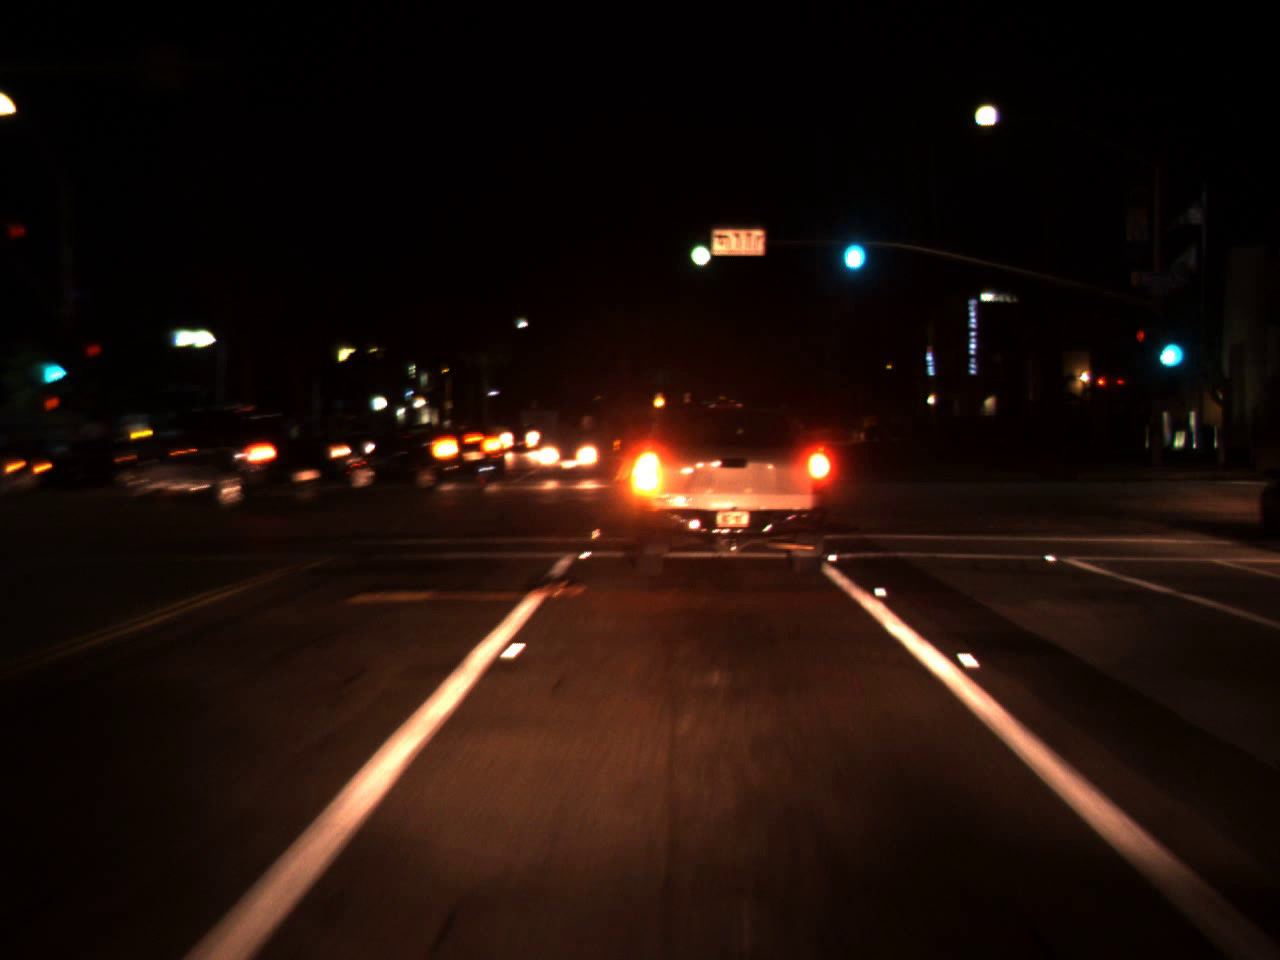go: (835, 211, 869, 280), (1150, 315, 1186, 375), (34, 342, 71, 390), (684, 220, 714, 274)
